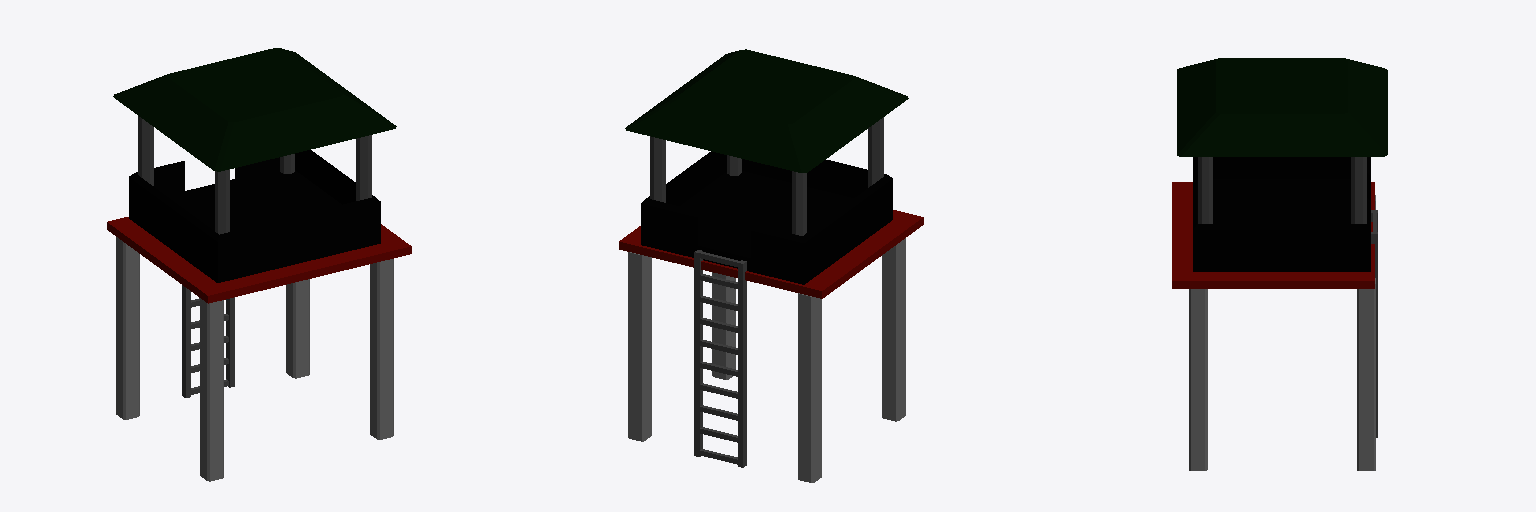
Rendered from SniperTower.obj.
3 renders of one model, left to right at view 1: azimuth 30°, elevation 25°; view 2: azimuth 150°, elevation 25°; view 3: azimuth 270°, elevation 25°, orthographic.
Parts seen in each view (by area): view 1: aaa_Cube.007; view 2: aaa_Cube.007; view 3: aaa_Cube.007.
Part boxes in pixels (left/top/right/bottom): aaa_Cube.007: left=107, top=48, right=411, bottom=481; aaa_Cube.007: left=619, top=49, right=923, bottom=482; aaa_Cube.007: left=1172, top=58, right=1387, bottom=470.
Bounding box in the file's own units: 7.93 × 12.66 × 7.27.